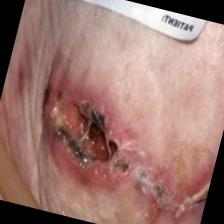orthopaedic-wounds: (32, 73, 142, 191)
